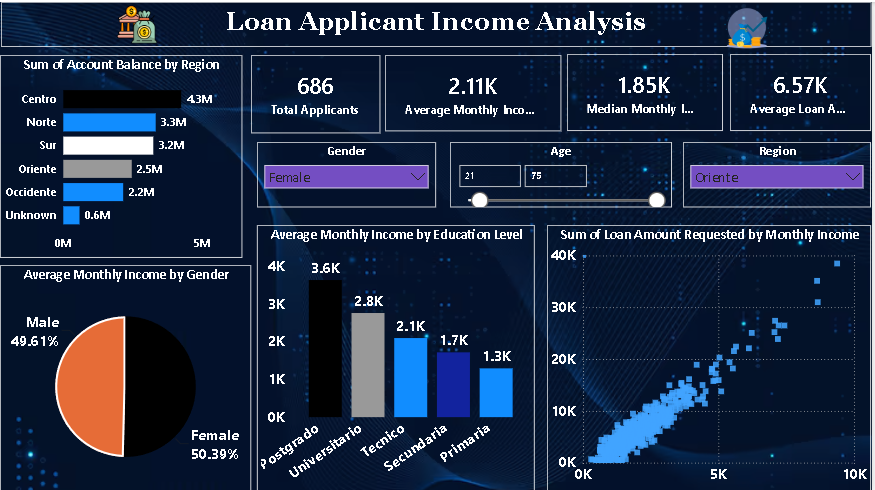

The dashboard page shown, as its layout file describes it:
{"tool":"powerbi","page":{"name":"Page 1","canvas":[1280,720],"ordinal":0},"visuals":[{"type":"cardVisual","fields":{"Data":["datos_faltantes_banca.Total Applicants"]},"box":[368.8,77.9,189.6,114.6],"z":0},{"type":"cardVisual","fields":{"Data":["datos_faltantes_banca.Average Monthly Income"]},"box":[565.7,77.9,258.6,111.7],"z":1000},{"type":"cardVisual","fields":{"Data":["datos_faltantes_banca.Median Monthly Income"]},"box":[833.1,76.4,229.2,113.1],"z":2000},{"type":"cardVisual","fields":{"Data":["datos_faltantes_banca.Average Loan Amount"]},"box":[1072.7,76.4,207.2,113.1],"z":3000},{"type":"columnChart","fields":{"Category":["datos_faltantes_banca.Education Level"],"Y":["datos_faltantes_banca.Average Monthly Income"]},"box":[377.6,327.7,408.5,392.3],"z":4000},{"type":"scatterChart","fields":{"X":["datos_faltantes_banca.Monthly Income"],"Y":["Sum(datos_faltantes_banca.Loan Amount Requested)"]},"box":[803.8,327.7,476.1,392.3],"z":6000},{"type":"pieChart","fields":{"Category":["datos_faltantes_banca.Gender"],"Y":["datos_faltantes_banca.Average Monthly Income"]},"box":[0,386.4,368.8,333.6],"z":7000},{"type":"slicer","title":"Region","fields":{"Values":["datos_faltantes_banca.Region"]},"box":[1003.6,205.7,276.2,95.5],"z":8000},{"type":"slicer","title":"Age","fields":{"Values":["datos_faltantes_banca.Age"]},"box":[661.2,205.7,326.2,95.5],"z":8001},{"type":"barChart","fields":{"Category":["datos_faltantes_banca.Region"],"Y":["Sum(datos_faltantes_banca.Account Balance)"]},"box":[0,77.9,355.6,298.3],"z":8002},{"type":"slicer","title":"Gender","fields":{"Values":["datos_faltantes_banca.Gender"]},"box":[377.6,205.7,263,95.5],"z":8003},{"type":"textbox","box":[1.5,0,1278.7,65.7],"z":8004},{"type":"image","box":[98.4,0,205.7,66.1],"z":8005},{"type":"image","box":[987.5,0,220.5,76.8],"z":8006}]}

Visuals, with their boxes in screenshot pixels (x1, y1, x2, y2), scaled from the page's 1280x720 canvas onto the 875x490 screenshot:
cardVisual - datos_faltantes_banca.Total Applicants: <bbox>252, 53, 382, 131</bbox>
cardVisual - datos_faltantes_banca.Average Monthly Income: <bbox>387, 53, 563, 129</bbox>
cardVisual - datos_faltantes_banca.Median Monthly Income: <bbox>570, 52, 726, 129</bbox>
cardVisual - datos_faltantes_banca.Average Loan Amount: <bbox>733, 52, 874, 129</bbox>
columnChart - datos_faltantes_banca.Education Level x datos_faltantes_banca.Average Monthly Income: <bbox>258, 223, 537, 489</bbox>
scatterChart - datos_faltantes_banca.Monthly Income x Sum(datos_faltantes_banca.Loan Amount Requested): <bbox>549, 223, 874, 489</bbox>
pieChart - datos_faltantes_banca.Gender x datos_faltantes_banca.Average Monthly Income: <bbox>0, 263, 252, 489</bbox>
"Region" slicer: <bbox>686, 140, 874, 205</bbox>
"Age" slicer: <bbox>452, 140, 675, 205</bbox>
barChart - datos_faltantes_banca.Region x Sum(datos_faltantes_banca.Account Balance): <bbox>0, 53, 243, 256</bbox>
"Gender" slicer: <bbox>258, 140, 438, 205</bbox>
textbox: <bbox>1, 0, 874, 45</bbox>
image: <bbox>67, 0, 208, 45</bbox>
image: <bbox>675, 0, 826, 52</bbox>
